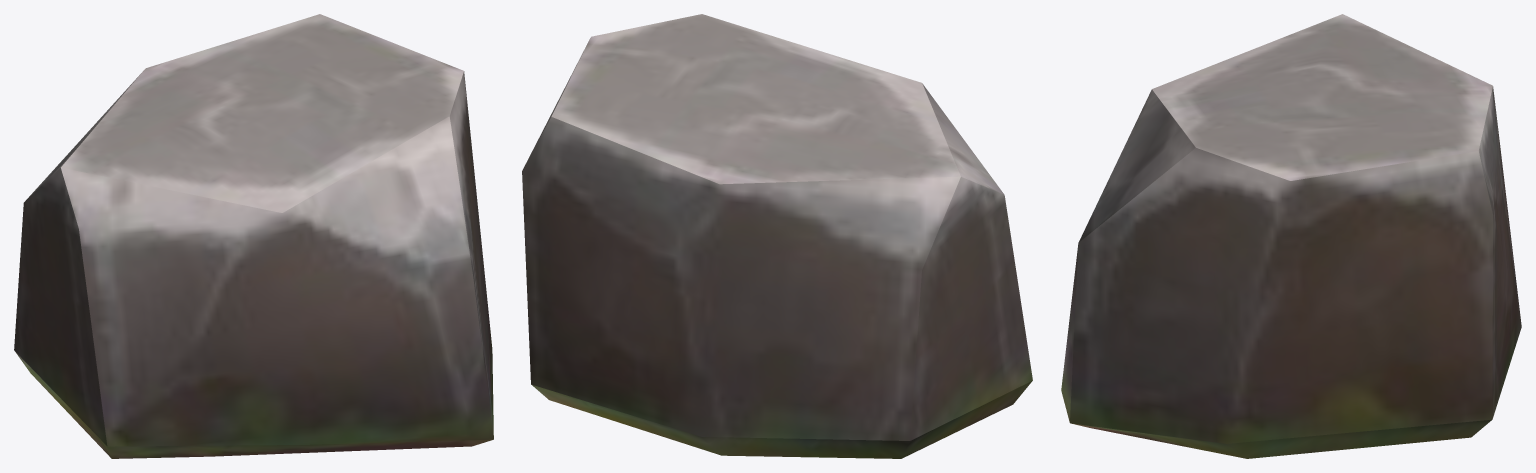
File: Rock_03.fbx
3 views of the same model, side by side, from view 1: azimuth 30°, elevation 25°; view 2: azimuth 150°, elevation 25°; view 3: azimuth 270°, elevation 25° (orthographic). The views are drawn at different scales.
Parts seen in each view (by area): view 1: Stone_2_Low.001; view 2: Stone_2_Low.001; view 3: Stone_2_Low.001.
Part boxes in pixels (<box>): Stone_2_Low.001: <box>14,14,493,458</box>; Stone_2_Low.001: <box>522,14,1032,458</box>; Stone_2_Low.001: <box>1061,14,1521,458</box>.
Size of the model in its own units: 58.33 by 42.83 by 57.71.
1 material, 1 textured.
